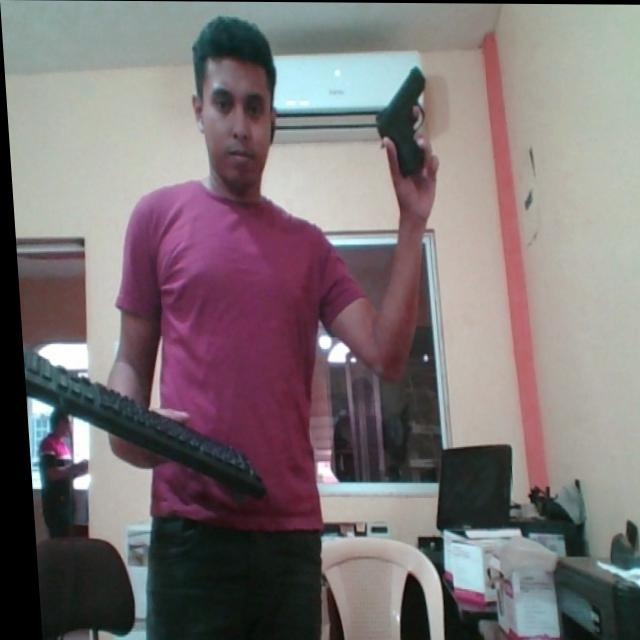weapon: (367, 62, 432, 186)
